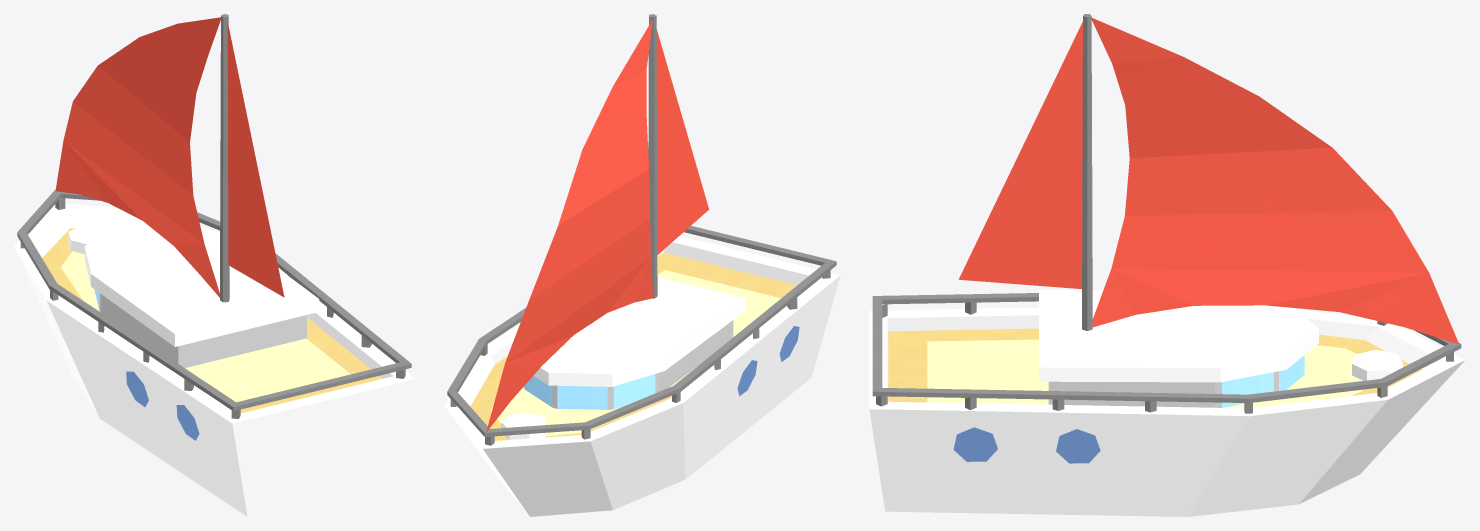
File: transport_water.009.glb
3 views of the same model, side by side, from view 1: azimuth 30°, elevation 25°; view 2: azimuth 150°, elevation 25°; view 3: azimuth 270°, elevation 25° (orthographic). The views are drawn at different scales.
Parts seen in each view (by area): view 1: transport_water.009(Clone); view 2: transport_water.009(Clone); view 3: transport_water.009(Clone).
Boxes of the visible parts, x1,y1,x2,y2 form: transport_water.009(Clone): (14,14,415,516); transport_water.009(Clone): (444,14,840,516); transport_water.009(Clone): (869,14,1464,516).
Bounding box in the file's own units: 4 × 7.61 × 8.96.
Materials: 1 (1 with a texture image).
